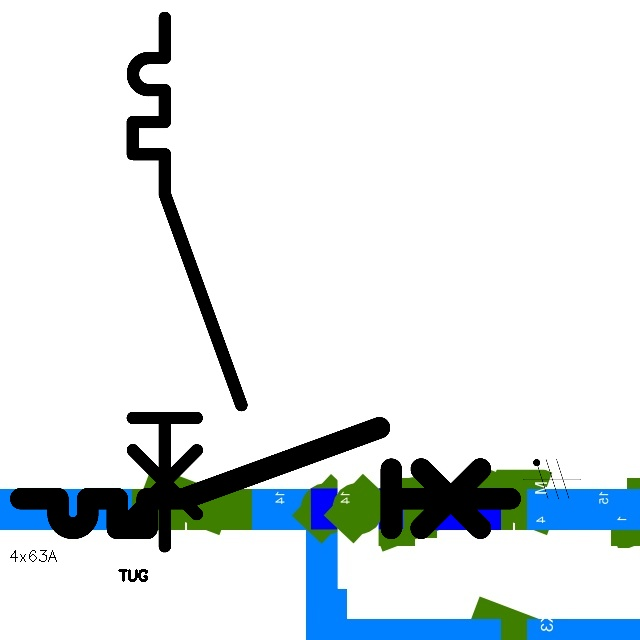interruptor_termomagnetico: (119, 4, 255, 560), (8, 415, 523, 541)
